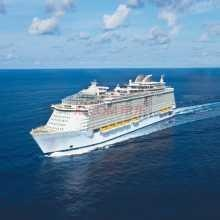youlun: (27, 71, 177, 158)
